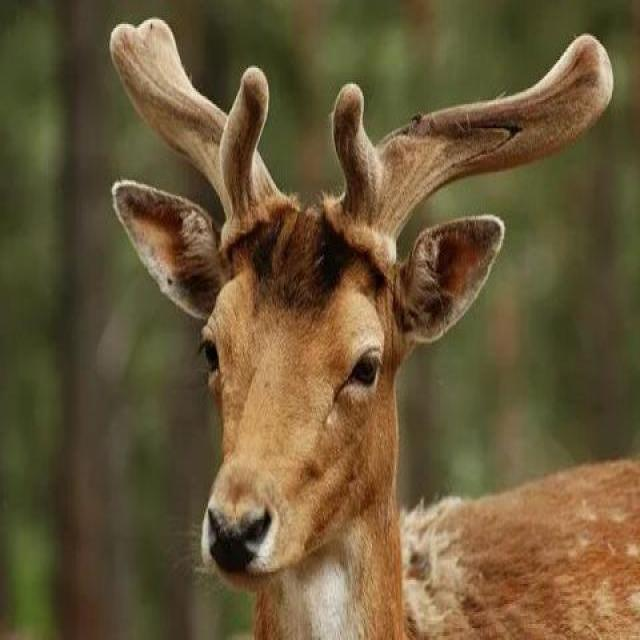deer: (110, 1, 620, 640)
